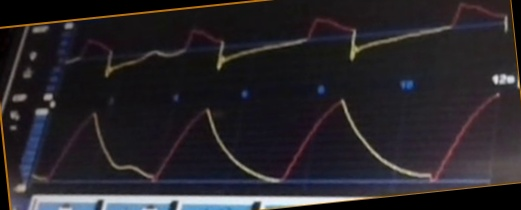Ineffective_effort Flow: (68, 2, 510, 78)
Ineffective_effort Volume: (36, 95, 499, 185)
